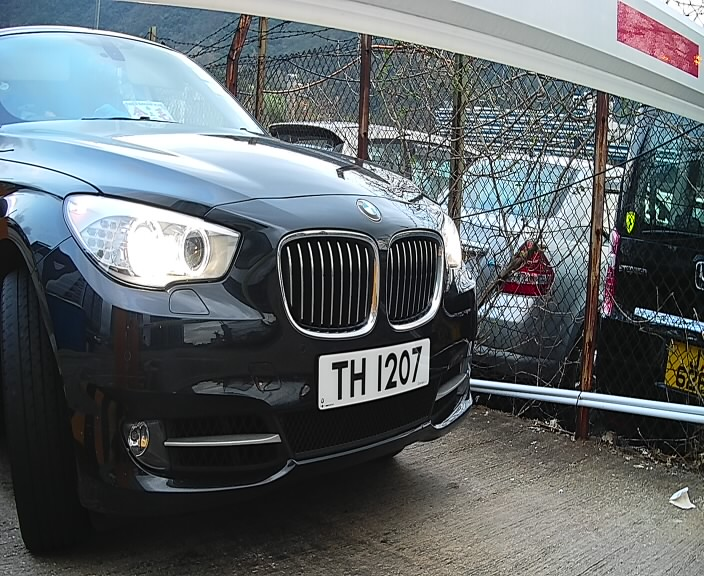License Plate: (308, 333, 441, 420)
